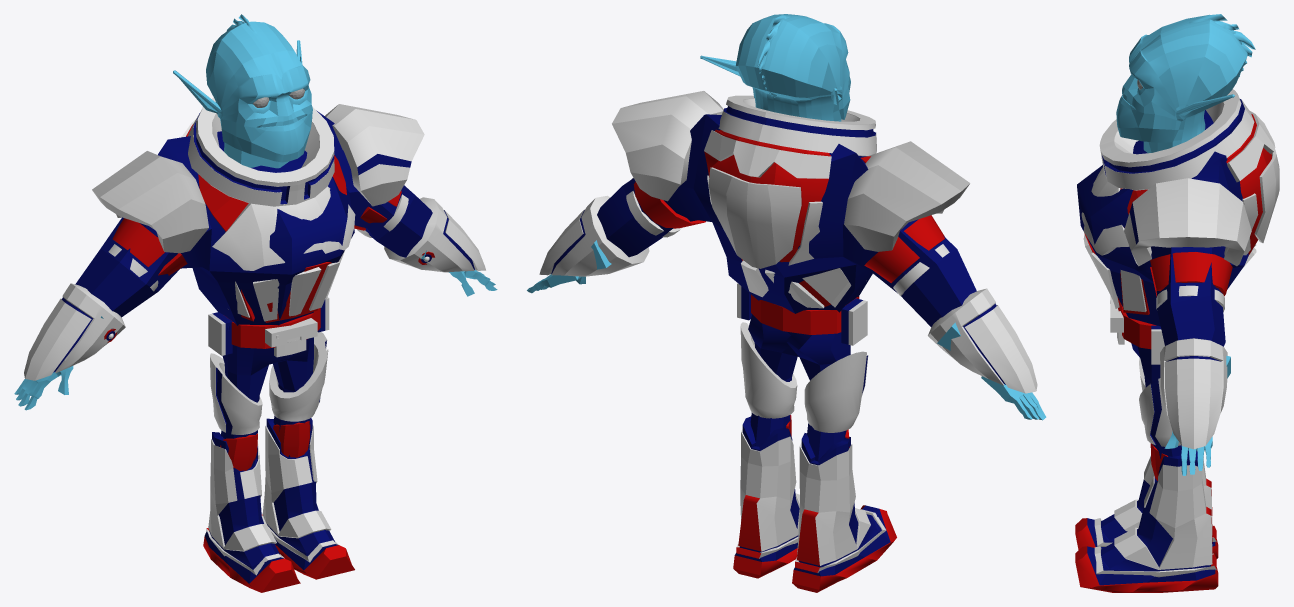
Rendered from AlienFBX.fbx.
3 views of the same model, side by side, from view 1: azimuth 30°, elevation 25°; view 2: azimuth 150°, elevation 25°; view 3: azimuth 270°, elevation 25° (orthographic). The views are drawn at different scales.
Visible parts, largest first — view 1: pCylinder7, Head1, polySurface36, pPipe4, pPipe3, pPipe10, polySurface31, polySurface32, polySurface34, pPipe9, polySurface40, polySurface38 (+15 smaller); view 2: pCylinder7, Head1, pPipe4, pPipe3, polySurface32, polySurface18, polySurface31, pPipe10, polySurface36, polySurface34, pPipe9, pPipe13 (+15 smaller); view 3: Head1, pCylinder7, pPipe3, polySurface36, polySurface31, pPipe9, polySurface38, pPipe5, polySurface39, pPipe12, polySurface32, polySurface19 (+14 smaller).
Boxes of the visible parts, left/top/right/bottom form: pCylinder7: left=75, top=110, right=432, bottom=325; Head1: left=173, top=21, right=312, bottom=168; polySurface36: left=188, top=97, right=355, bottom=270; pPipe4: left=92, top=151, right=208, bottom=253; pPipe3: left=325, top=104, right=424, bottom=206; pPipe10: left=24, top=283, right=125, bottom=380; polySurface31: left=261, top=425, right=338, bottom=562; polySurface32: left=206, top=439, right=284, bottom=575; polySurface34: left=221, top=337, right=313, bottom=466; pPipe9: left=384, top=197, right=485, bottom=272; polySurface40: left=204, top=432, right=283, bottom=583; polySurface38: left=266, top=418, right=338, bottom=570; pCylinder7: left=597, top=114, right=976, bottom=327; Head1: left=700, top=14, right=850, bottom=121; pPipe4: left=844, top=141, right=970, bottom=251; pPipe3: left=612, top=91, right=723, bottom=201; polySurface32: left=795, top=442, right=886, bottom=572; polySurface18: left=708, top=167, right=801, bottom=268; polySurface31: left=736, top=429, right=799, bottom=558; pPipe10: left=928, top=288, right=1037, bottom=393; polySurface36: left=718, top=95, right=876, bottom=156; polySurface34: left=748, top=314, right=850, bottom=461; pPipe9: left=539, top=195, right=649, bottom=276; pPipe13: left=804, top=351, right=868, bottom=432; Head1: left=1116, top=14, right=1247, bottom=153; pCylinder7: left=1077, top=110, right=1248, bottom=346; pPipe3: left=1124, top=178, right=1251, bottom=266; polySurface36: left=1081, top=89, right=1254, bottom=255; polySurface31: left=1094, top=464, right=1216, bottom=577; pPipe9: left=1160, top=338, right=1227, bottom=449; polySurface38: left=1087, top=450, right=1215, bottom=585; pPipe5: left=1150, top=252, right=1232, bottom=296; polySurface39: left=1075, top=546, right=1218, bottom=592; pPipe12: left=1139, top=378, right=1180, bottom=446; polySurface32: left=1094, top=450, right=1216, bottom=546; polySurface19: left=1227, top=110, right=1275, bottom=182.
Bounding box in the file's own units: 15.02 × 15.88 × 5.29.
